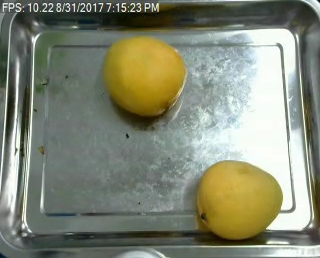Mango: (195, 159, 283, 241), (103, 35, 188, 118)
